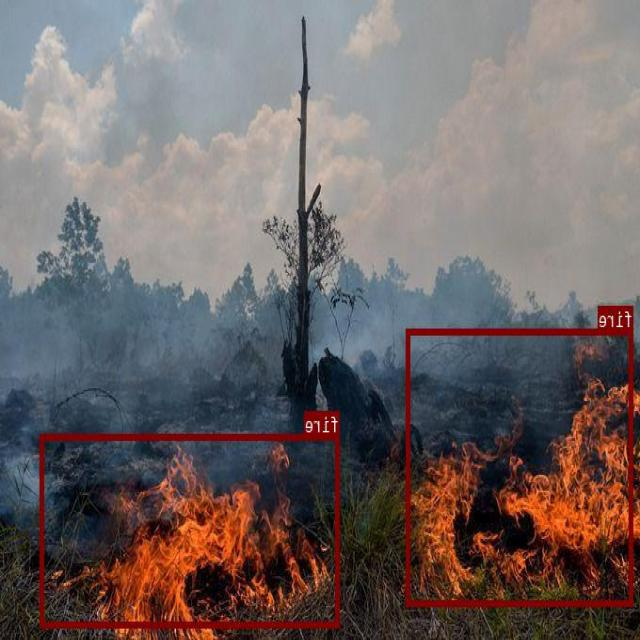fire: (407, 328, 634, 606), (41, 433, 340, 626)
